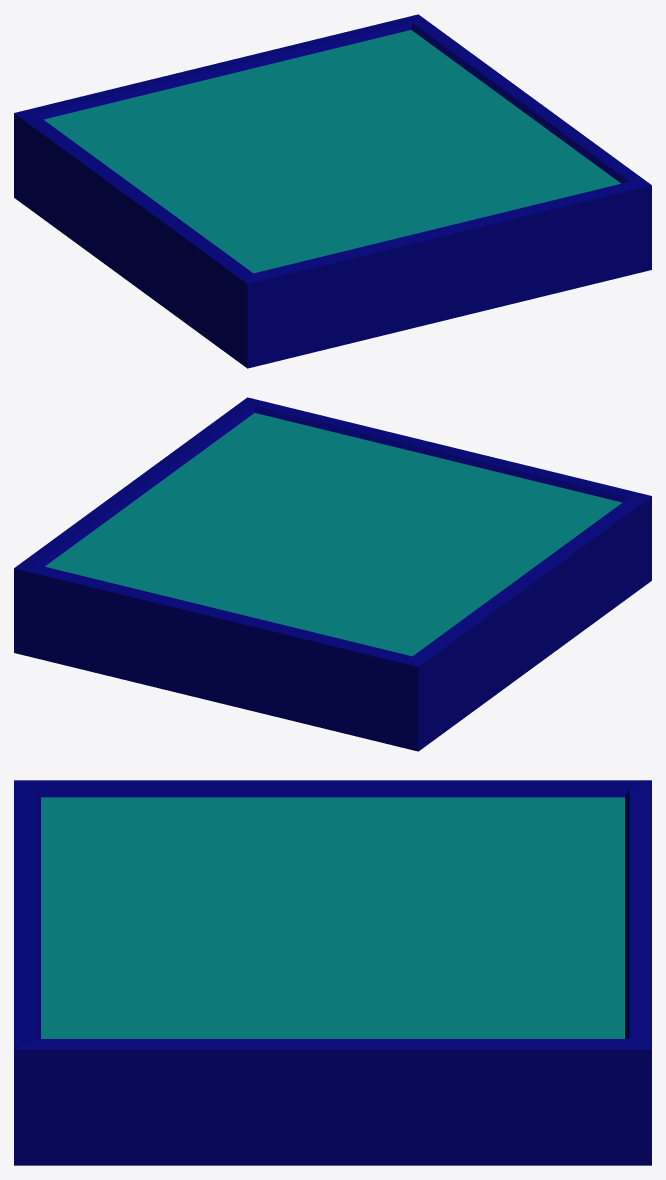
The model's file is Platform1.fbx.
3 views of the same model, one above another, from view 1: azimuth 30°, elevation 25°; view 2: azimuth 150°, elevation 25°; view 3: azimuth 270°, elevation 25° (orthographic). The views are drawn at different scales.
Parts seen in each view (by area): view 1: Cube; view 2: Cube; view 3: Cube.
Boxes of the visible parts, x1=… form: Cube: x1=14, y1=14, x2=651, y2=368; Cube: x1=14, y1=397, x2=651, y2=751; Cube: x1=14, y1=780, x2=651, y2=1165.
Size of the model in its own units: 1000 by 203 by 1000.
Materials: 1 (1 with a texture image).
